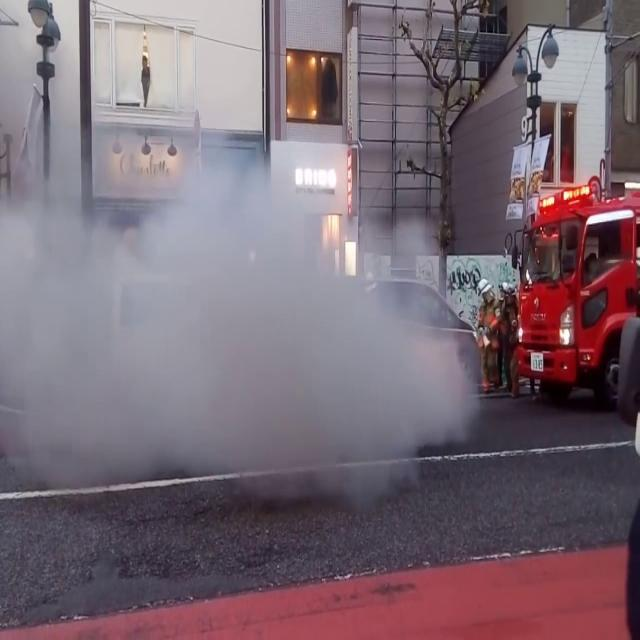Smoke: (0, 113, 468, 483)
